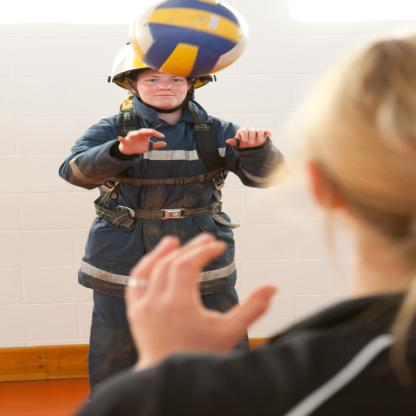Helmet: (104, 38, 221, 112)
